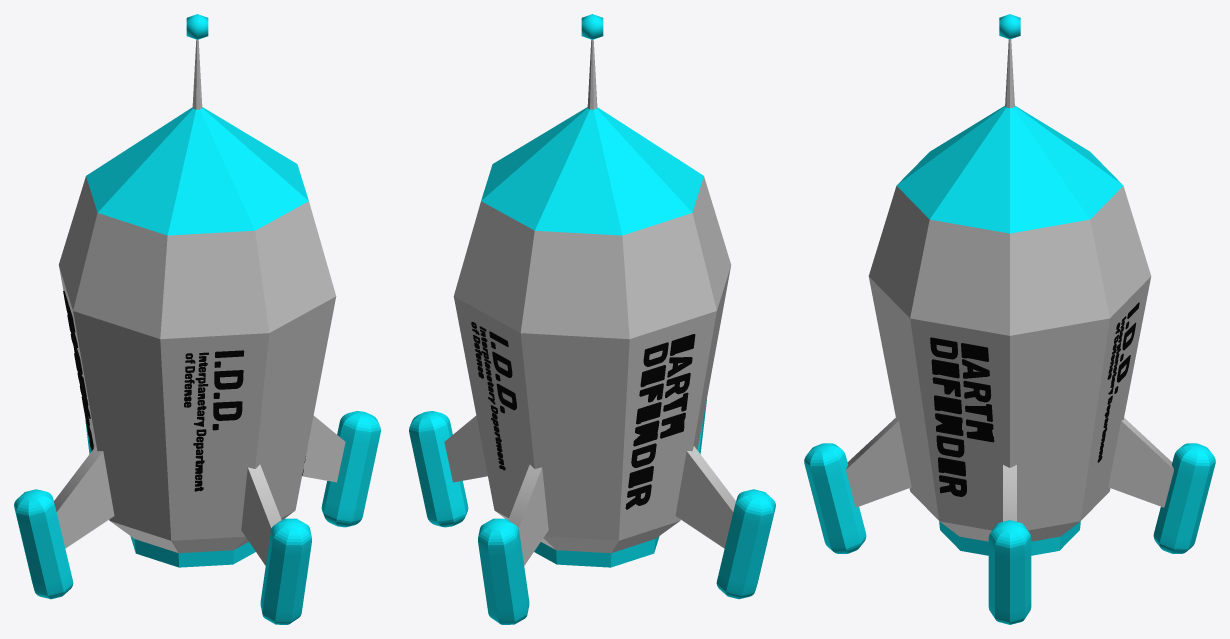
The model's file is rocket.fbx.
3 views of the same model, side by side, from view 1: azimuth 30°, elevation 25°; view 2: azimuth 150°, elevation 25°; view 3: azimuth 270°, elevation 25° (orthographic).
Parts seen in each view (by area): view 1: body, Kapsel, Kapsel_2, Kapsel_3, Würfel_3, Würfel_2, Würfel, Deckfläche_2_3, Deckfläche_2_4, Extrude_NURBS_1_3, Deckfläche_2_6, Kugel; view 2: body, Deckfläche_2_6, Kapsel, Kapsel_4, Kapsel_3, Würfel_3, Würfel_4, Würfel, Extrude_NURBS_1_3, Deckfläche_2, Deckfläche_2_2, Extrude_NURBS_1 (+1 smaller); view 3: body, Deckfläche_2_5, Kapsel_2, Kapsel_4, Kapsel, Würfel_2, Würfel_4, Extrude_NURBS_0, Würfel.
Boxes of the visible parts, <box> form: body: <box>58,107,336,567</box>; Kapsel: <box>321,411,380,527</box>; Kapsel_2: <box>260,518,311,624</box>; Kapsel_3: <box>14,489,73,599</box>; Würfel_3: <box>54,446,114,548</box>; Würfel_2: <box>241,464,281,565</box>; Würfel: <box>302,416,345,482</box>; Deckfläche_2_3: <box>184,353,208,491</box>; Deckfläche_2_4: <box>212,350,244,430</box>; Extrude_NURBS_1_3: <box>63,291,93,449</box>; Deckfläche_2_6: <box>63,291,92,450</box>; Kugel: <box>186,14,208,39</box>; body: <box>453,107,731,567</box>; Deckfläche_2_6: <box>626,334,695,509</box>; Kapsel: <box>409,411,468,527</box>; Kapsel_4: <box>478,518,529,624</box>; Kapsel_3: <box>716,489,775,599</box>; Würfel_3: <box>675,446,735,548</box>; Würfel_4: <box>508,464,548,565</box>; Würfel: <box>444,416,487,482</box>; Extrude_NURBS_1_3: <box>625,334,694,509</box>; Deckfläche_2: <box>471,322,504,470</box>; Deckfläche_2_2: <box>489,331,516,413</box>; Extrude_NURBS_1: <box>472,322,505,470</box>; body: <box>868,106,1151,555</box>; Deckfläche_2_5: <box>930,338,993,496</box>; Kapsel_2: <box>804,443,866,553</box>; Kapsel_4: <box>1153,443,1215,553</box>; Kapsel: <box>988,520,1031,624</box>; Würfel_2: <box>846,418,911,507</box>; Würfel_4: <box>1108,418,1173,507</box>; Extrude_NURBS_0: <box>931,337,994,494</box>; Würfel: <box>1003,465,1016,521</box>.
Size of the model in its own units: 29.13 by 41.98 by 29.13.
